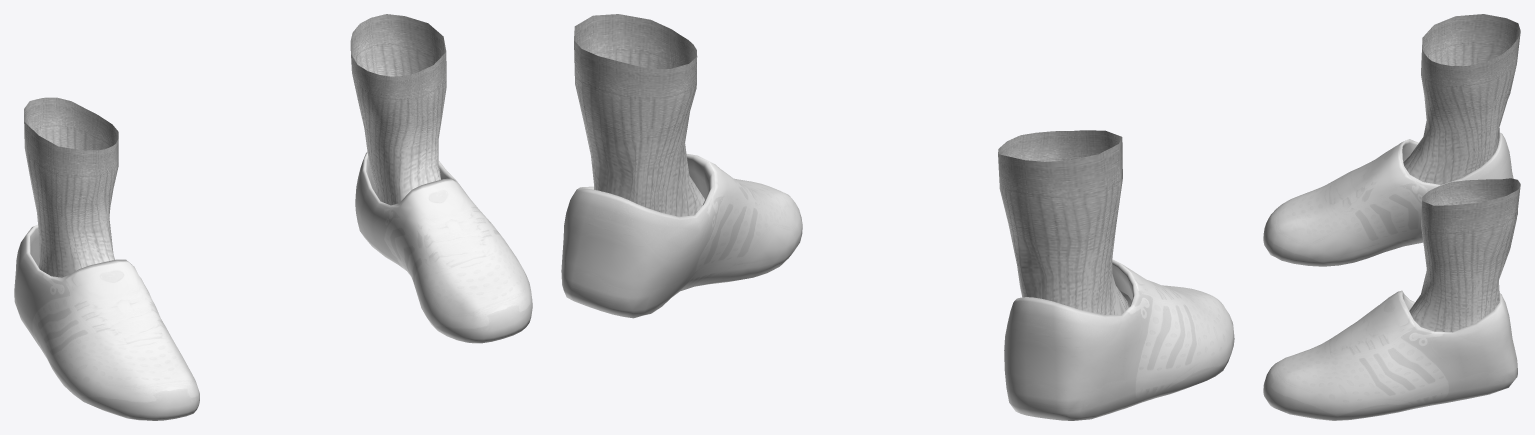
Rendered from sneaker.glb.
3 renders of one model, left to right at view 1: azimuth 30°, elevation 25°; view 2: azimuth 150°, elevation 25°; view 3: azimuth 270°, elevation 25°, orthographic. The views are drawn at different scales.
Visible parts, largest first — view 1: sneaker; view 2: sneaker; view 3: sneaker.
Boxes of the visible parts, x1,y1,x2,y2 form: sneaker: [14, 14, 532, 420]; sneaker: [561, 14, 1234, 420]; sneaker: [1263, 14, 1520, 420].
Size of the model in its own units: 0.4583 by 0.2253 by 0.237.
2 materials, 2 textured.
